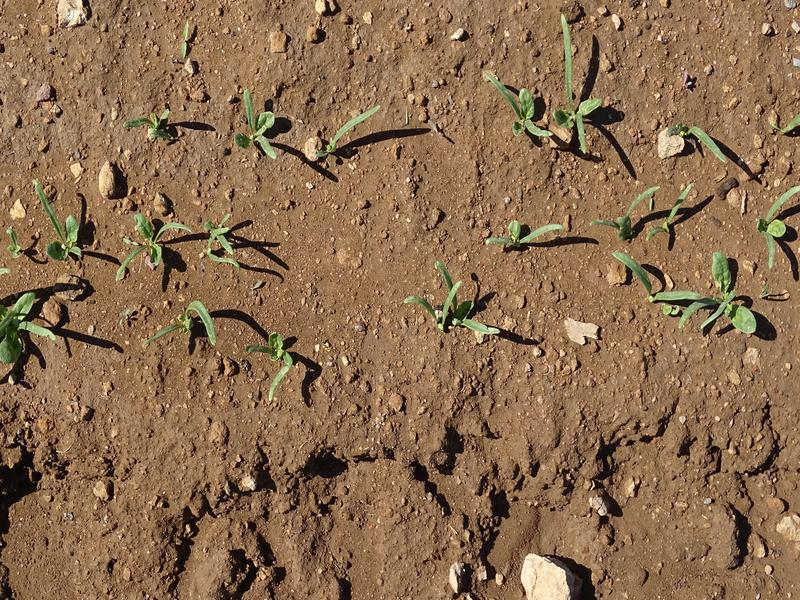Espinaca: (611, 195, 800, 338), (482, 24, 603, 153), (412, 264, 504, 340), (112, 207, 197, 284), (39, 184, 90, 265), (329, 100, 387, 168), (148, 301, 216, 352), (474, 216, 569, 252), (1, 287, 42, 360), (256, 329, 295, 399), (200, 218, 245, 269), (685, 120, 735, 164), (250, 104, 276, 168)
